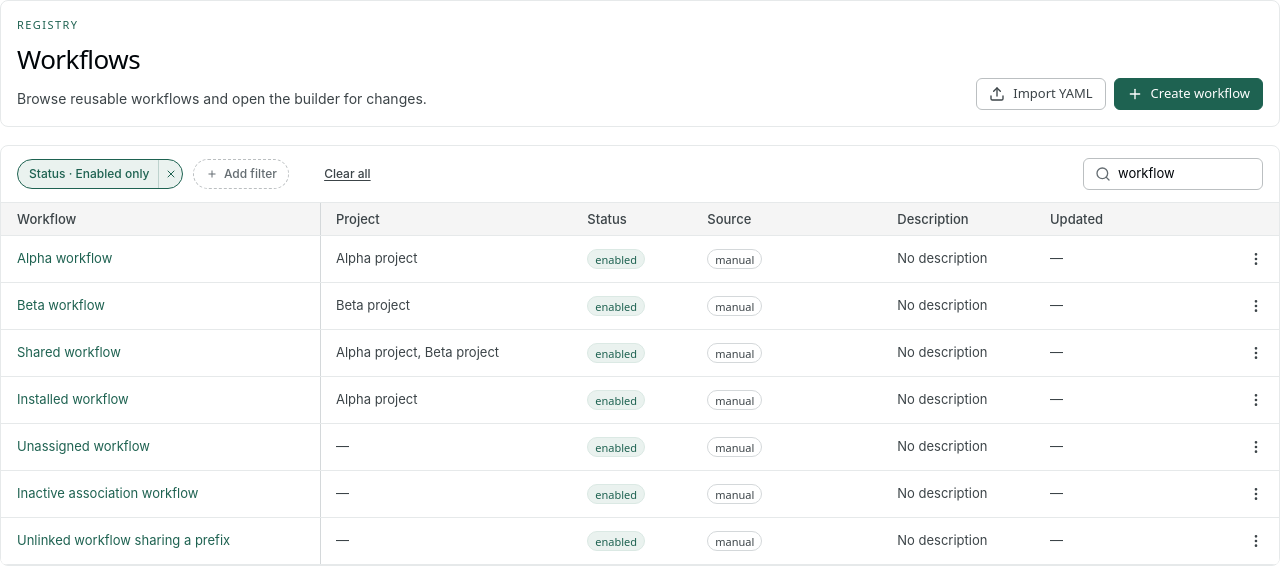
Test: preserves search, enabled status and view preferences while resetting page on a project change
Check: the link "Unassigned workflow" is shown, box x1=17 y1=438 x2=150 y2=454
Step 1. Click the button "Add filter" → (241, 174), box x1=193 y1=159 x2=289 y2=189
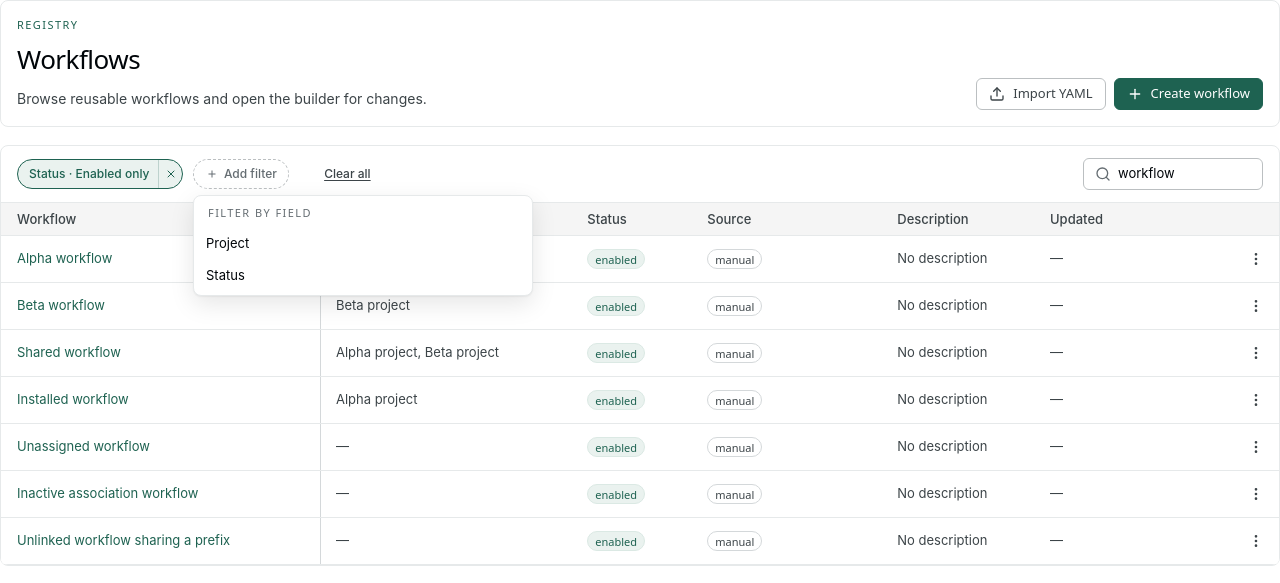
Step 2. Click the menu item "Project" → (228, 243), box x1=198 y1=227 x2=528 y2=259
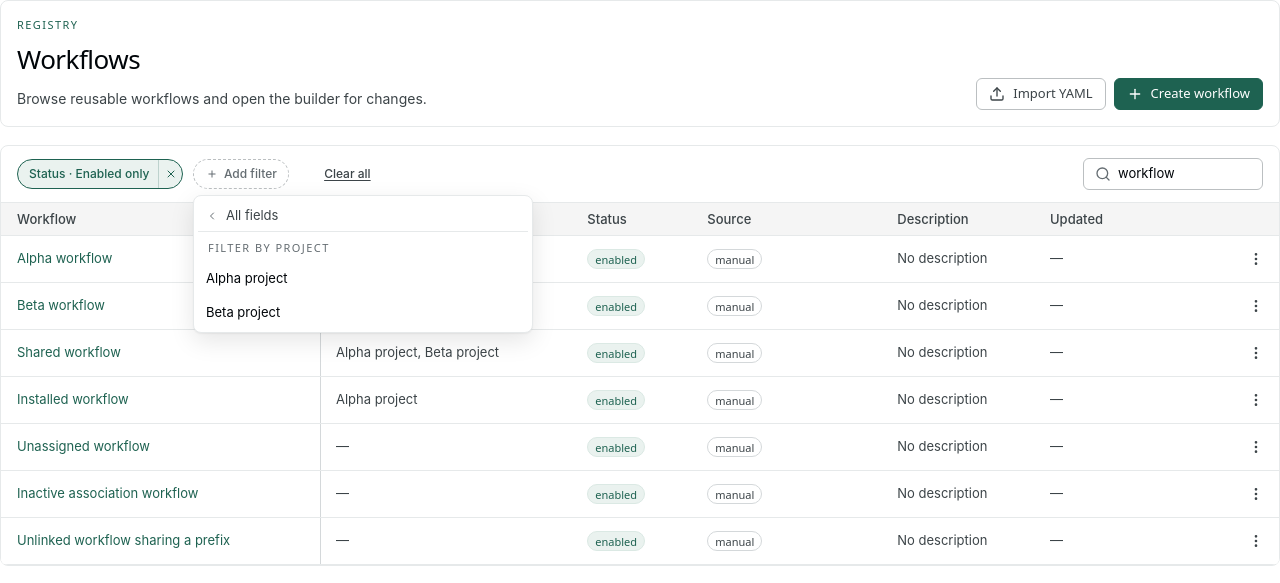
Step 3. Click the menu item "Beta project" → (243, 312), box x1=198 y1=296 x2=528 y2=328
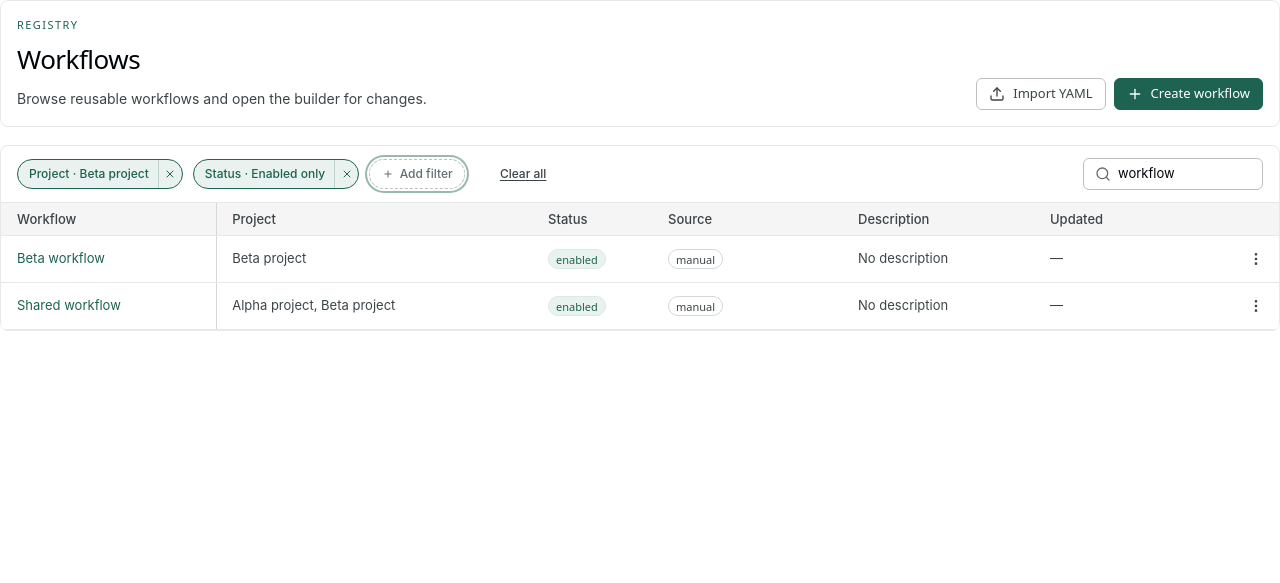
Check: the link "Beta workflow" is shown, box x1=17 y1=250 x2=105 y2=266
Step 4. Replace the text in the search field named "Search workflows" with "Shared" → (1184, 174), box x1=1118 y1=164 x2=1251 y2=184
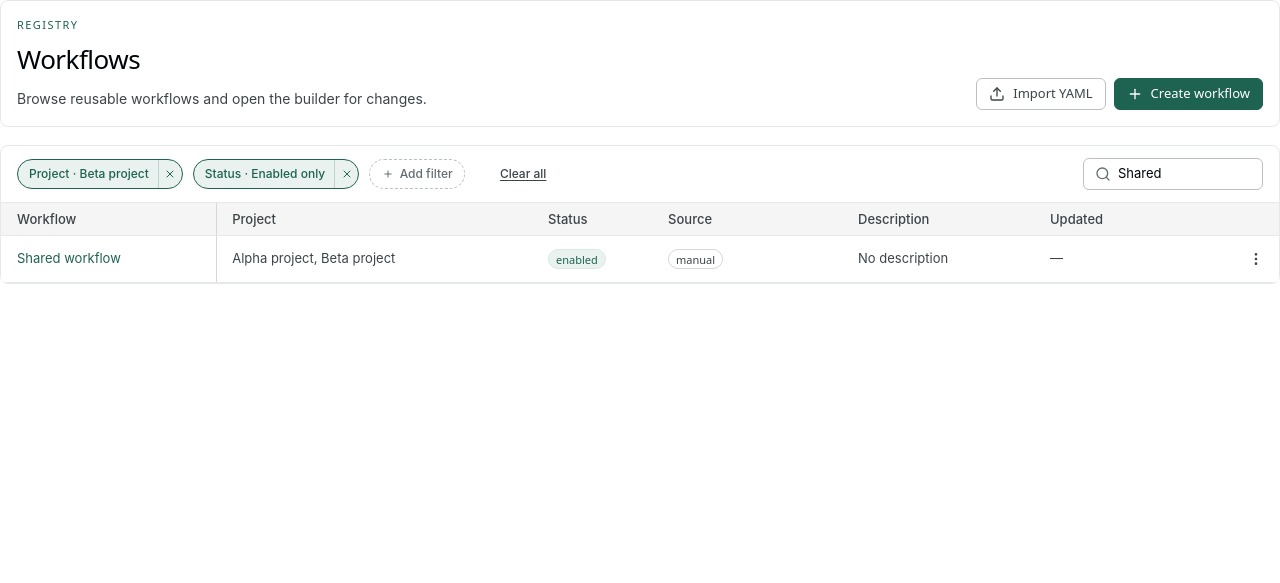
Check: the link "Shared workflow" is shown, box x1=17 y1=250 x2=121 y2=266
Check: the link "Beta workflow" is gone
